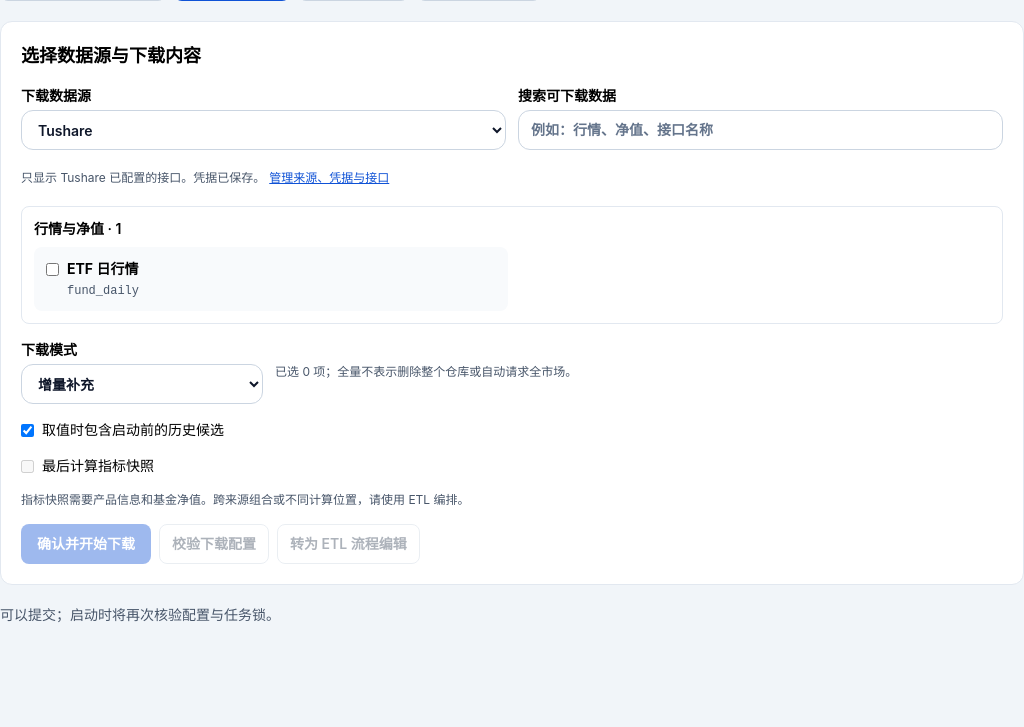
Scenario: 多源下载与 ETL › 校验返回期间用户修改配置，旧结果不能启用或启动新流程
Expected: the heading "选择数据源与下载内容" is shown, top-left (21, 45), bottom-right (201, 66)
Click the checkbox labelled "ETF 日行情" at (52, 270), box top-left (46, 263), bottom-right (59, 276)
(page scrolled)
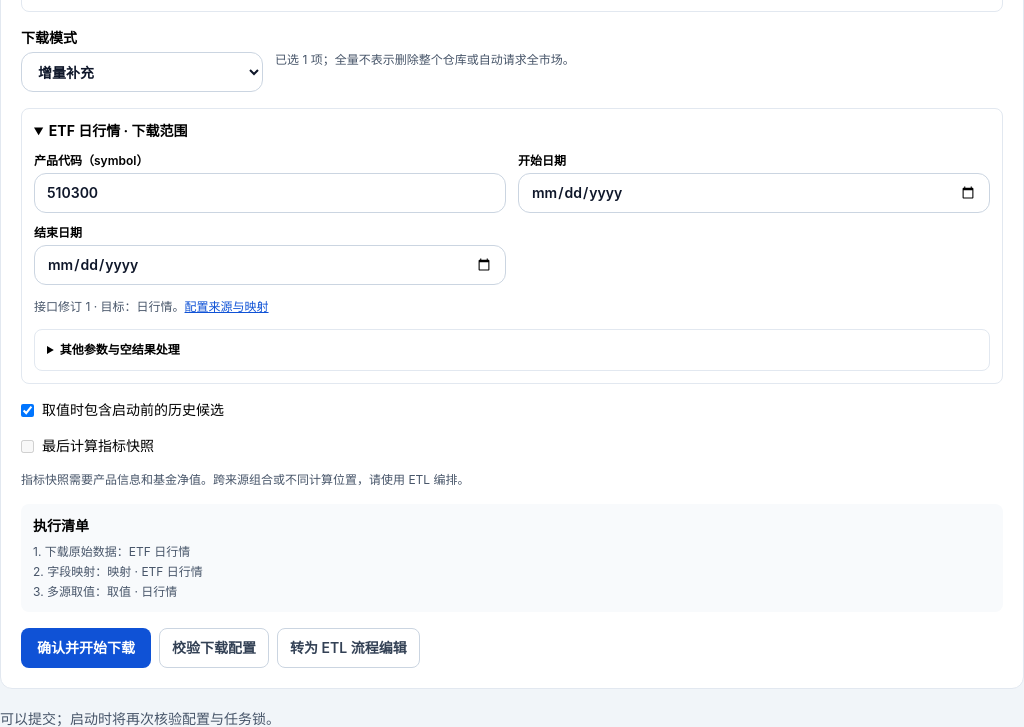
Click the button "确认并开始下载" at (86, 648), box top-left (21, 628), bottom-right (151, 668)
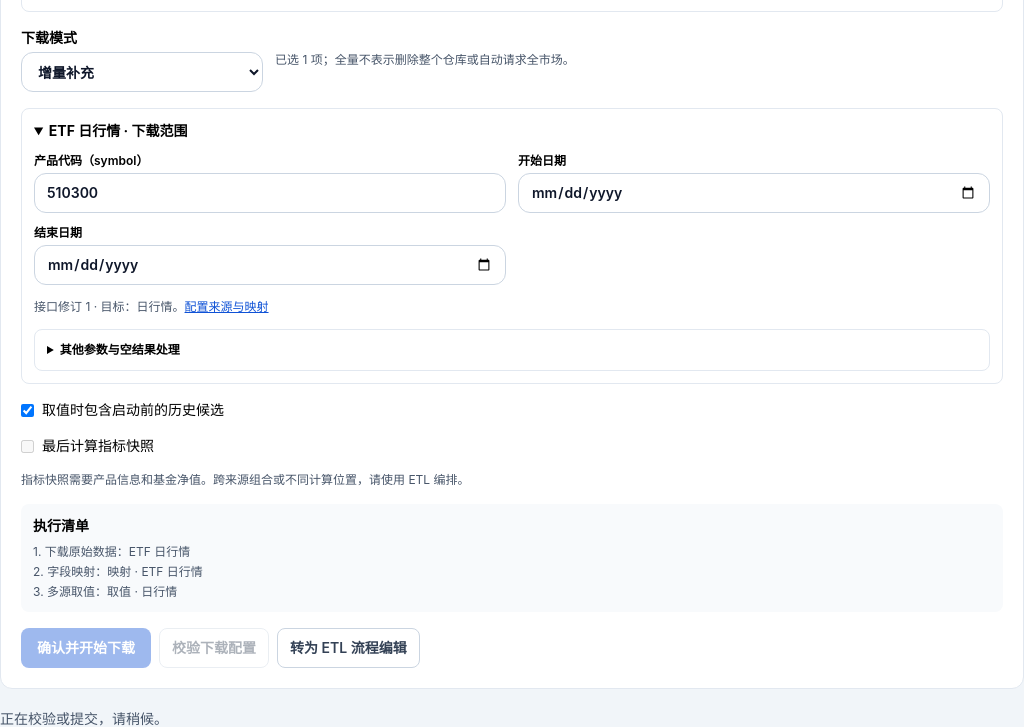
Select "全量重新请求所选范围" in the dropdown labelled "下载模式" at (142, 72), box top-left (21, 52), bottom-right (263, 92)
(page scrolled)
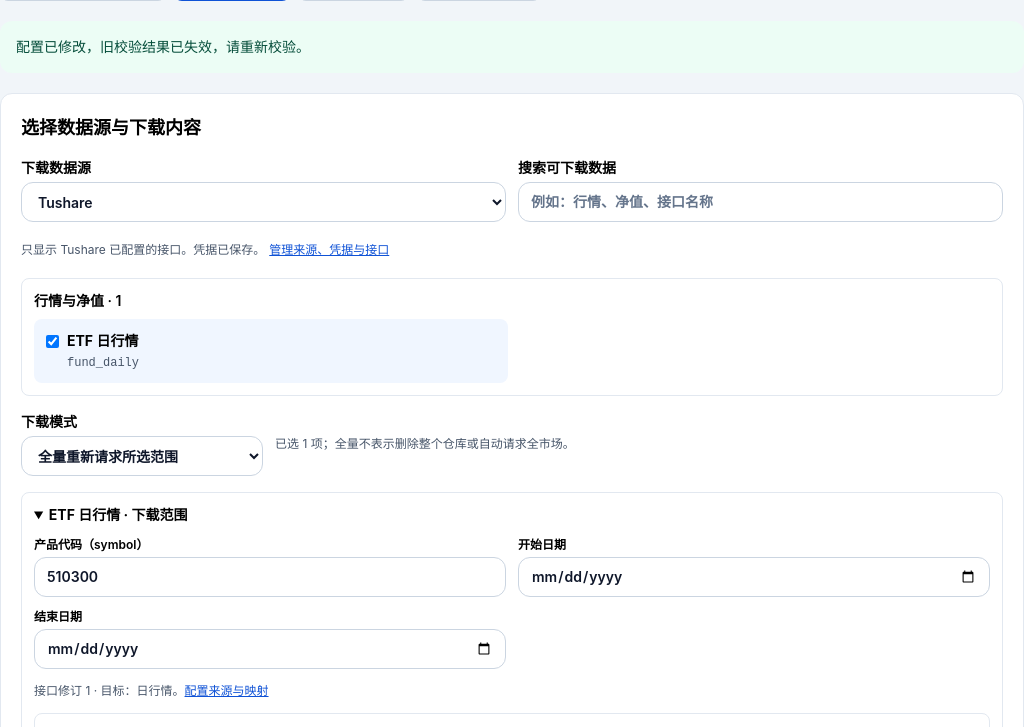
Expected: the text "配置已修改，旧校验结果已失效，请重新校验。" is shown, top-left (0, 21), bottom-right (1023, 73)
